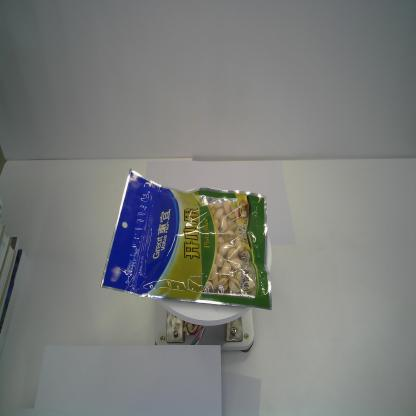Dried Fruit: (99, 167, 273, 312)
